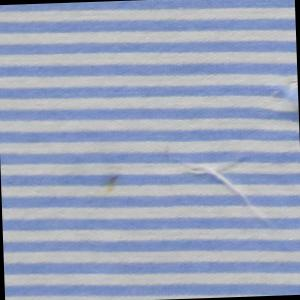Damage: (178, 72, 300, 234)
Oil Stain: (96, 164, 131, 207)
